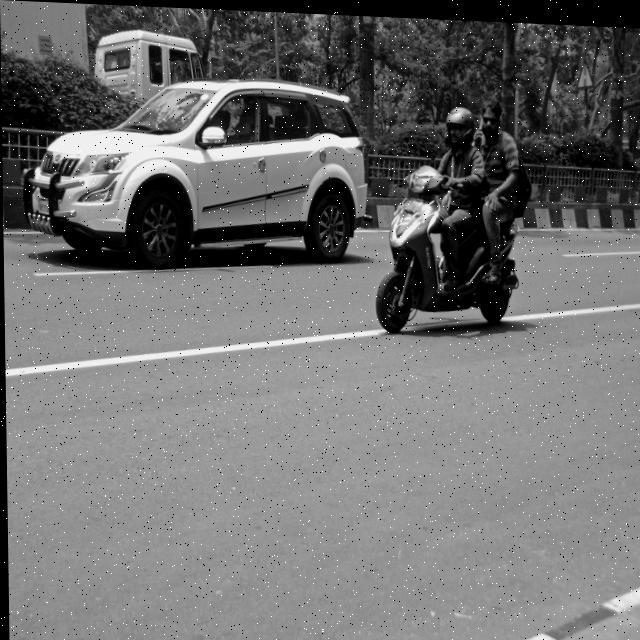bike: (369, 151, 515, 325)
car: (14, 58, 378, 277)
